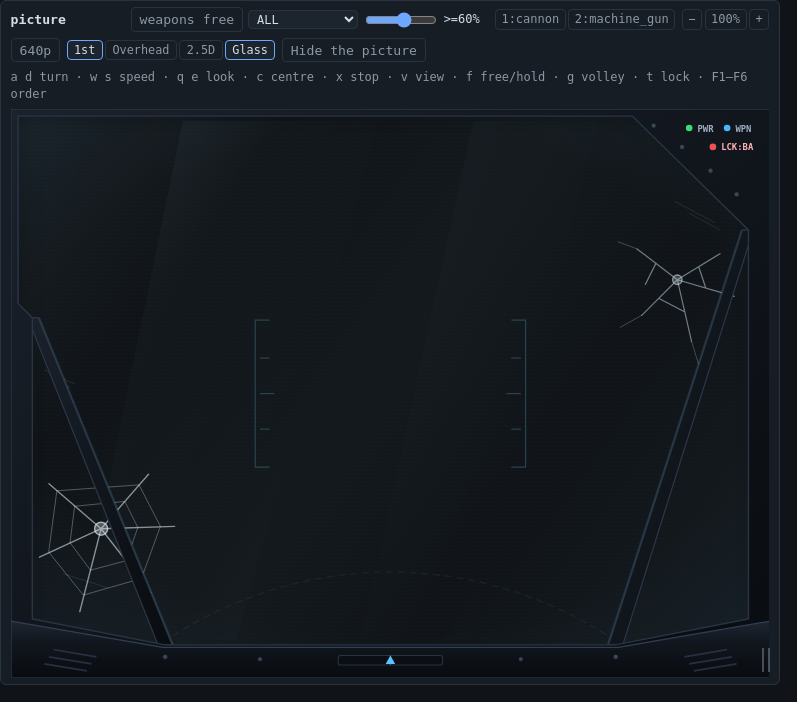
PictureView mounted, drawn here: a fresh canvas is painted › renders the cockpit glass overlay in 1st-person view, toggles it via the Glass button, and shows ballistic cracks when damaged
Check: the element with class "glass-cracks" is shown, box [618,242,734,372]
Check: the element with class "glass-cracks-heavy" is shown, box [39,474,174,612]
Click the button with aria-label "cockpit glass".
click(250, 50)  # box [225,40,275,60]
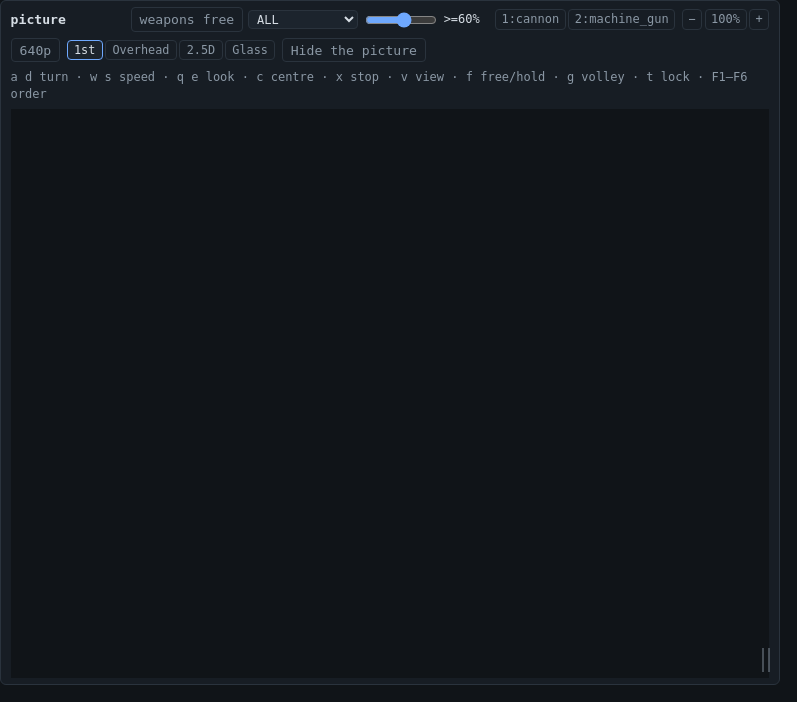
Click the button with aria-label "cockpit glass".
click(250, 50)  # box [225,40,275,60]
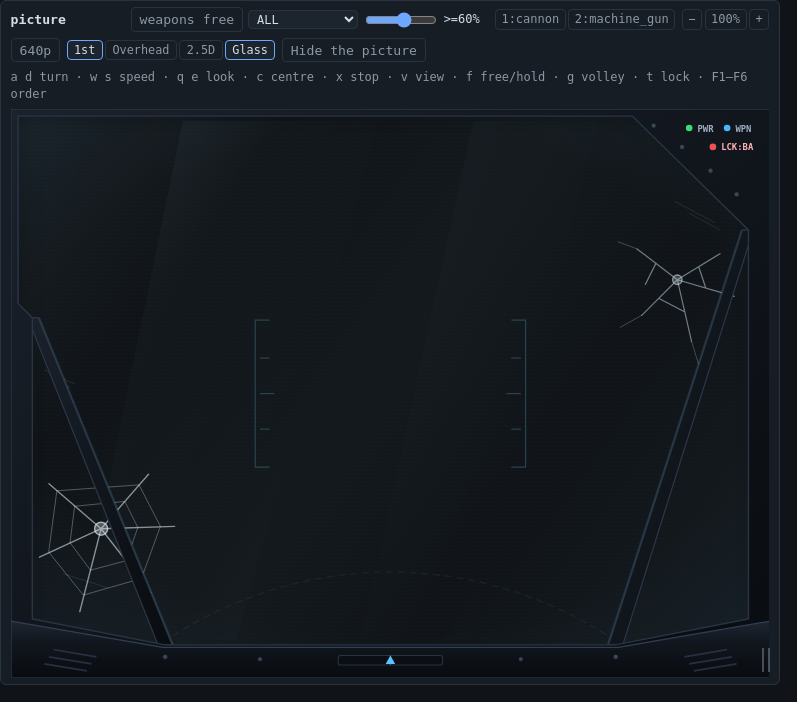
Check: the element named "cockpit glass overlay" is shown
